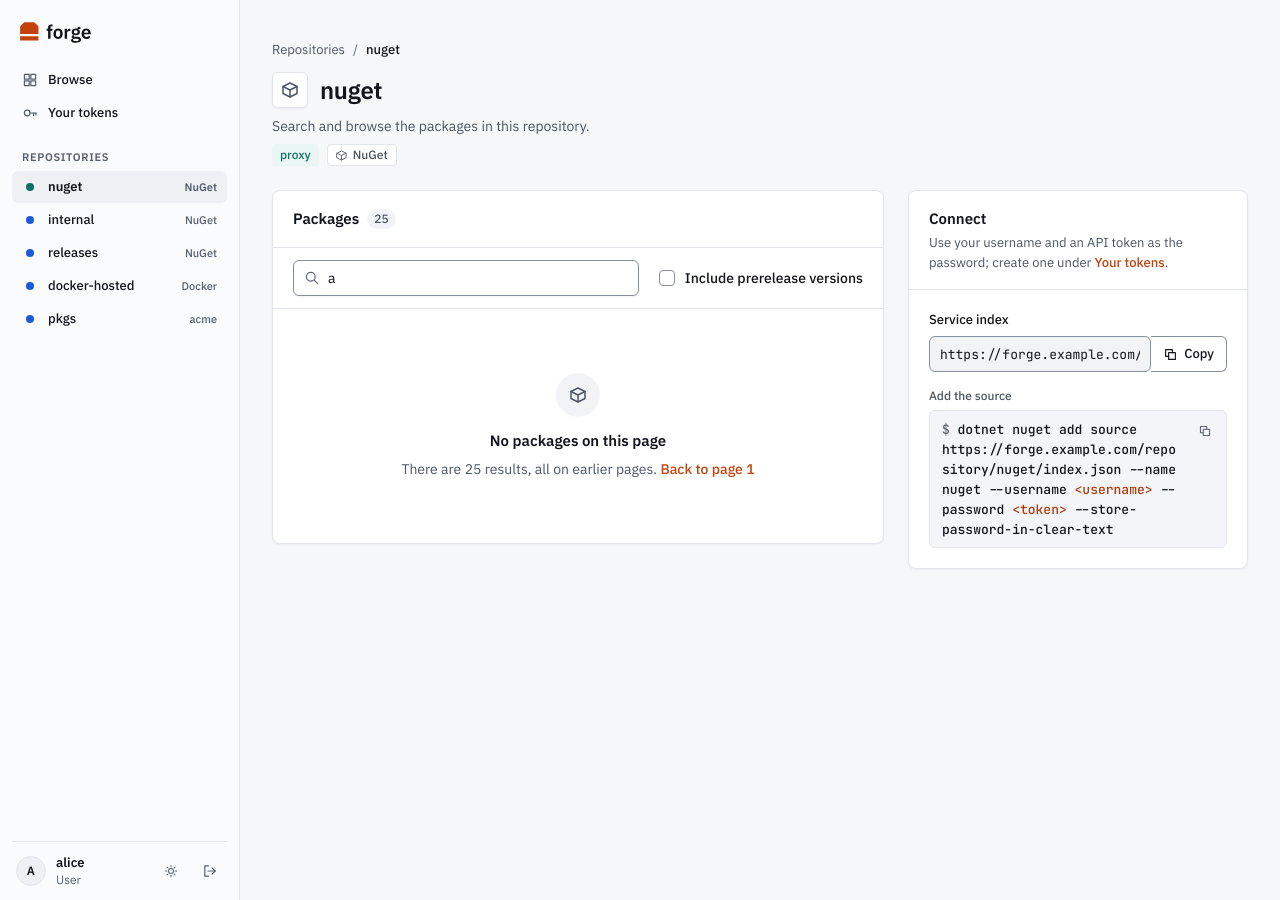
Test: RepoBrowse (per-repo search) › a page past the last result offers a way back instead of looking empty
expect the text "No packages on this page" is shown: met, box x1=490 y1=429 x2=666 y2=453
Click the link "Back to page 1" at (707, 469), box x1=660 y1=460 x2=754 y2=478
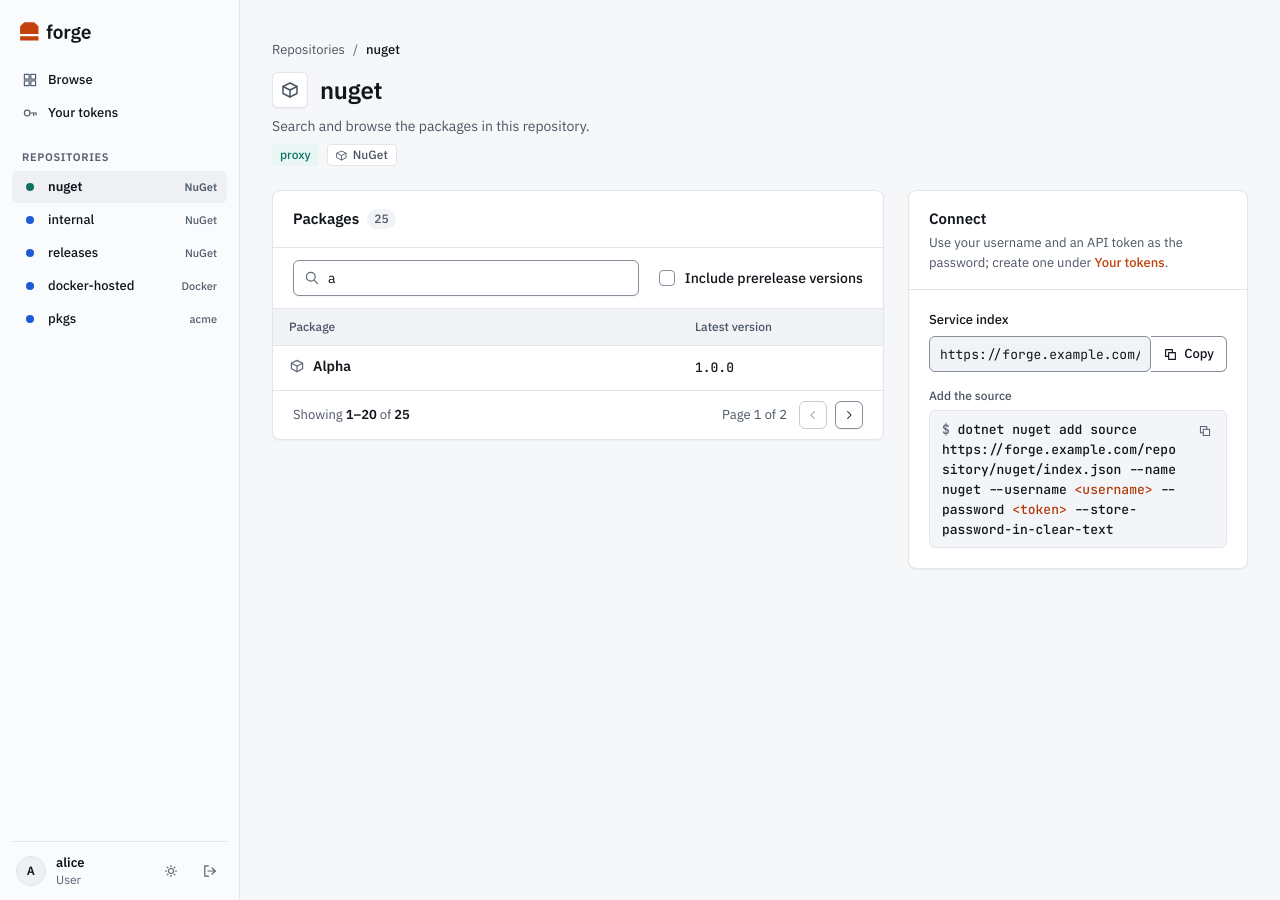
expect the link "Alpha" is shown: met, box x1=289 y1=356 x2=351 y2=376
